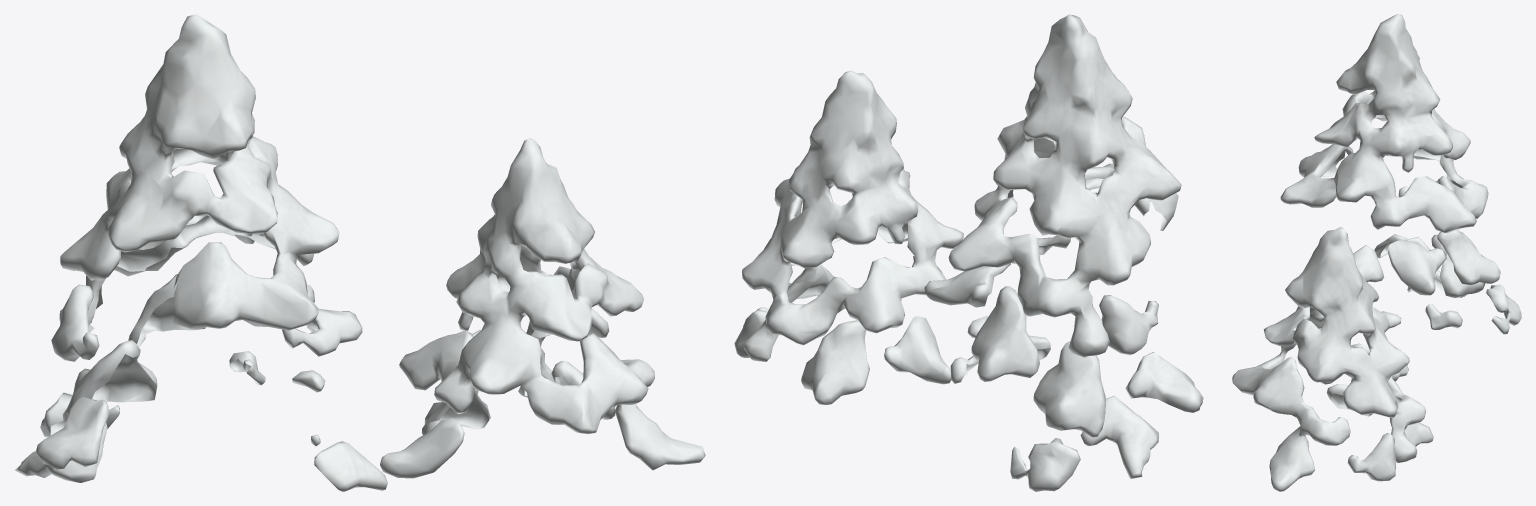
Rendered from ChristmasRoom_OutsideTreeSnow04.fbx.
3 views of the same model, side by side, from view 1: azimuth 30°, elevation 25°; view 2: azimuth 150°, elevation 25°; view 3: azimuth 270°, elevation 25° (orthographic). The views are drawn at different scales.
Parts seen in each view (by area): view 1: ChristmasRoom_OutsideTreeSnow04; view 2: ChristmasRoom_OutsideTreeSnow04; view 3: ChristmasRoom_OutsideTreeSnow04.
Boxes of the visible parts, left/top/right/bottom form: ChristmasRoom_OutsideTreeSnow04: left=14, top=14, right=705, bottom=491; ChristmasRoom_OutsideTreeSnow04: left=734, top=14, right=1203, bottom=491; ChristmasRoom_OutsideTreeSnow04: left=1232, top=14, right=1521, bottom=491.
Size of the model in its own units: 289 by 237 by 182.
